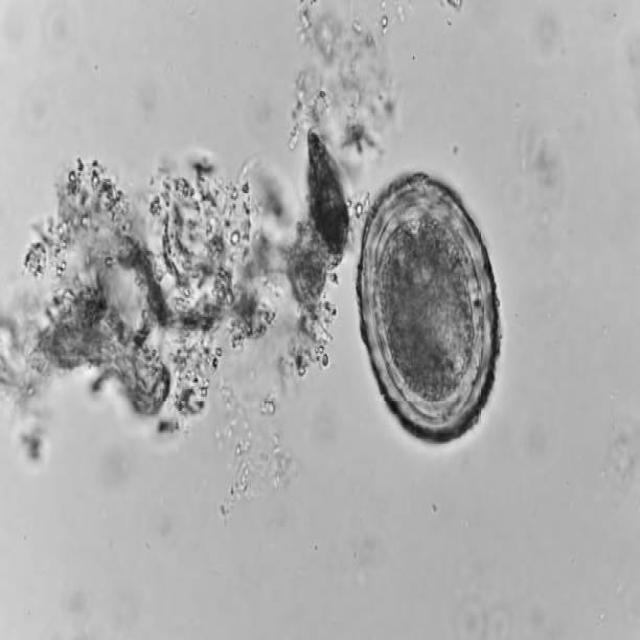Ascaris Lumbricoides: (354, 166, 504, 460)
